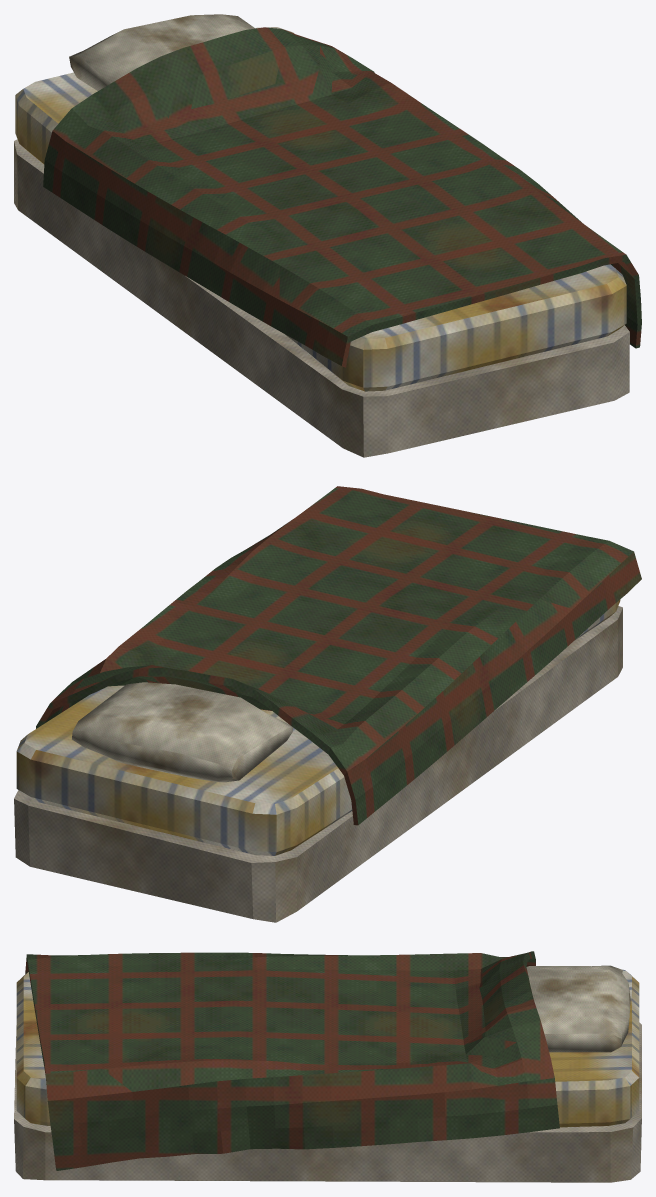
The model's file is Bed.fbx.
The picture shows the model from 3 angles, top to bottom: view 1: azimuth 30°, elevation 25°; view 2: azimuth 150°, elevation 25°; view 3: azimuth 270°, elevation 25°; orthographic projection. The views are drawn at different scales.
Parts seen in each view (by area): view 1: Blanket, BoxSpring, MattressTwin, Pillow; view 2: Blanket, BoxSpring, MattressTwin, Pillow; view 3: Blanket, BoxSpring, MattressTwin, Pillow.
Boxes of the visible parts, x1=… form: Blanket: x1=43, y1=27, x2=641, y2=367; BoxSpring: x1=14, y1=139, x2=629, y2=457; MattressTwin: x1=15, y1=27, x2=626, y2=391; Pillow: x1=69, y1=14, x2=255, y2=90; Blanket: x1=36, y1=486, x2=641, y2=825; BoxSpring: x1=14, y1=606, x2=622, y2=922; MattressTwin: x1=16, y1=600, x2=620, y2=855; Pillow: x1=72, y1=682, x2=293, y2=782; Blanket: x1=25, y1=951, x2=559, y2=1170; BoxSpring: x1=14, y1=1022, x2=641, y2=1182; MattressTwin: x1=16, y1=969, x2=639, y2=1127; Pillow: x1=526, y1=965, x2=630, y2=1052.
Size of the model in its own units: 1.12 by 0.5839 by 2.18.
Materials: 4 (4 with a texture image).
